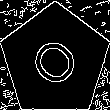O_SE: (23, 28, 87, 93)
